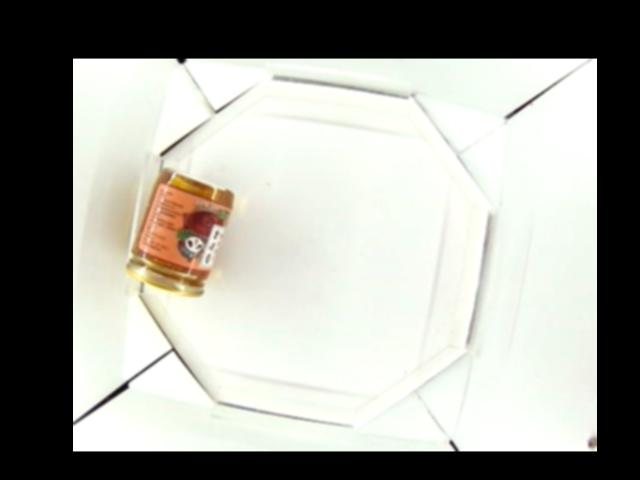Bottle: (122, 169, 234, 295)
